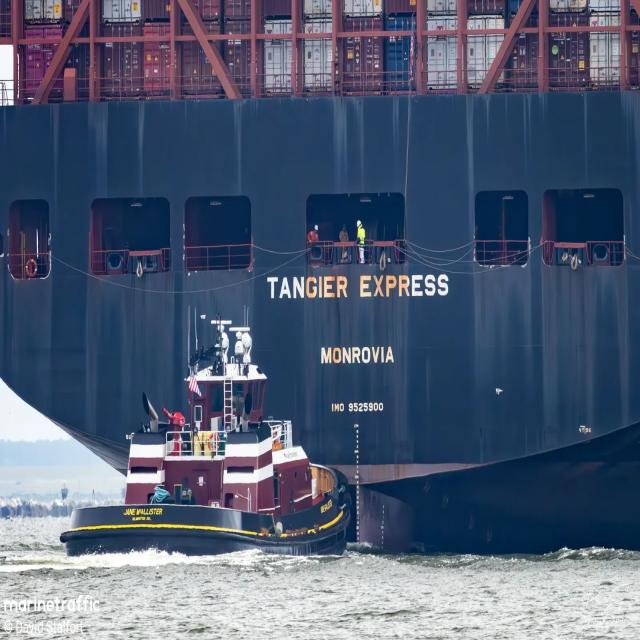Tug: (61, 315, 351, 555)
